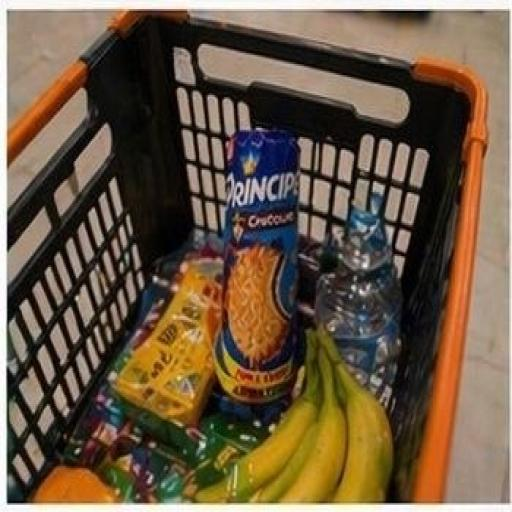prince: (120, 83, 434, 396)
